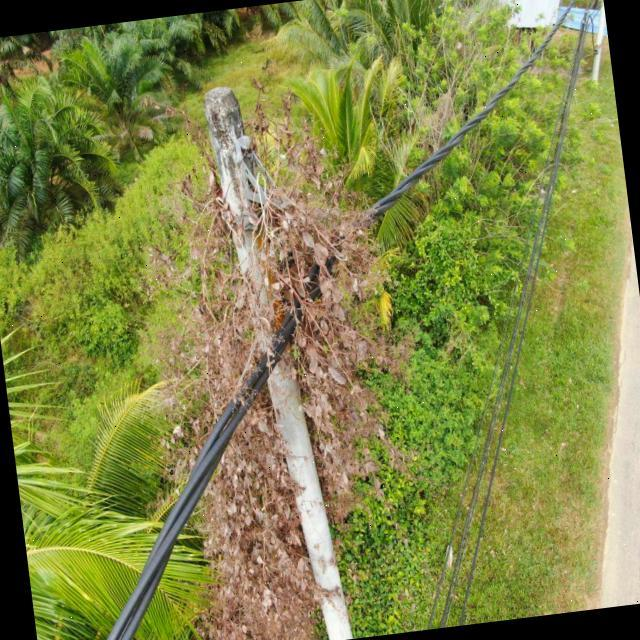critical vegetation: (127, 46, 426, 640)
